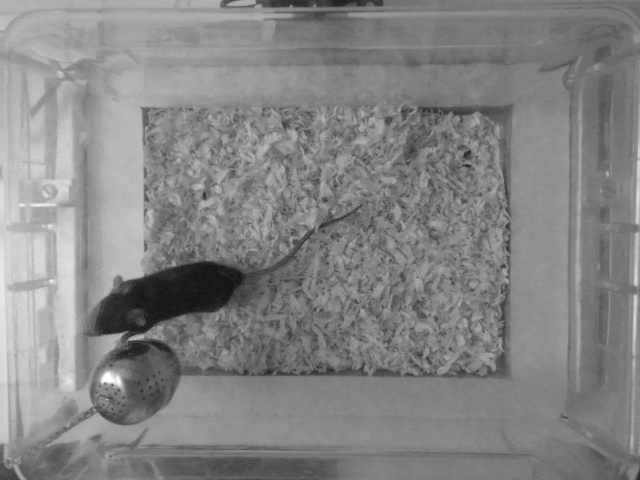mice: (75, 201, 363, 341)
